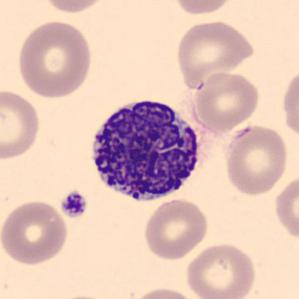Basophil: (83, 91, 212, 208)
Platelets: (59, 189, 89, 219)
RBC: (15, 18, 95, 100), (172, 17, 256, 83), (222, 122, 291, 198), (0, 198, 71, 266), (191, 69, 262, 133), (141, 197, 210, 261), (183, 241, 258, 299), (0, 87, 43, 162), (272, 172, 298, 243), (280, 66, 299, 144), (37, 0, 109, 15), (170, 0, 237, 16), (128, 286, 199, 299), (45, 292, 120, 299)
